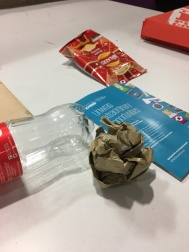paper_brown: (87, 112, 159, 195)
